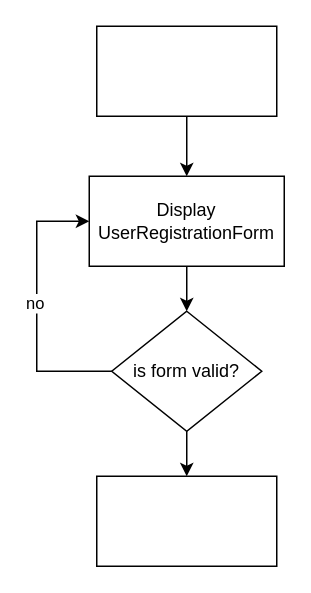
This 311x593 diagram has some shape labels left out. Each missing label, with the box of its shape:
create account, redirect to login page: (95, 475, 277, 566)
register: (95, 25, 277, 116)
